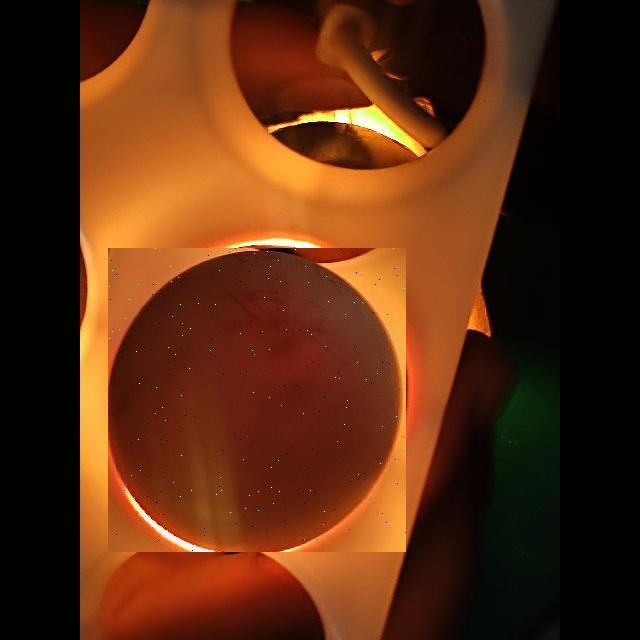A - Good: (106, 248, 409, 549)
